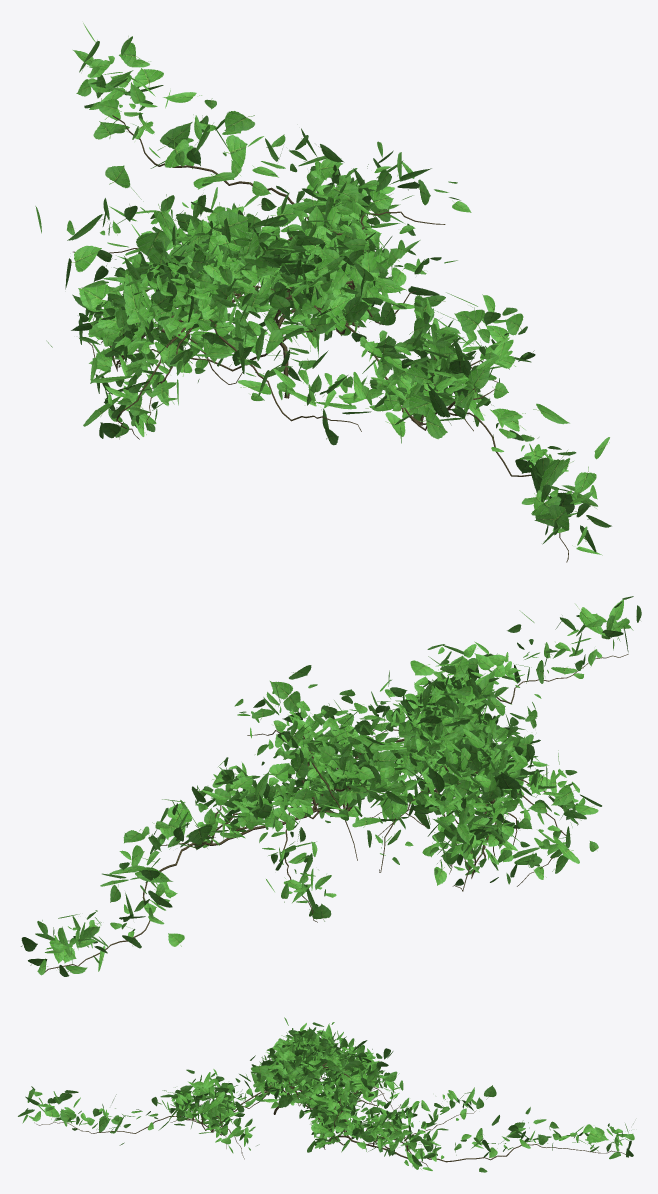
File: plante_grimpante.fbx
The picture shows the model from 3 angles, top to bottom: view 1: azimuth 30°, elevation 25°; view 2: azimuth 150°, elevation 25°; view 3: azimuth 270°, elevation 25°; orthographic projection. The views are drawn at different scales.
Visible parts, largest first — view 1: IvyLeaf, IVY_Curve; view 2: IvyLeaf, IVY_Curve; view 3: IvyLeaf, IVY_Curve.
Boxes of the visible parts, bbox=[...] form: IvyLeaf: bbox=[35, 23, 611, 555]; IVY_Curve: bbox=[73, 115, 568, 562]; IvyLeaf: bbox=[21, 596, 641, 976]; IVY_Curve: bbox=[45, 654, 628, 972]; IvyLeaf: bbox=[18, 1017, 634, 1172]; IVY_Curve: bbox=[34, 1063, 628, 1166].
Bounding box in the file's own units: 10.16 × 4.95 × 23.84.
Materials: 2 (1 with a texture image).
